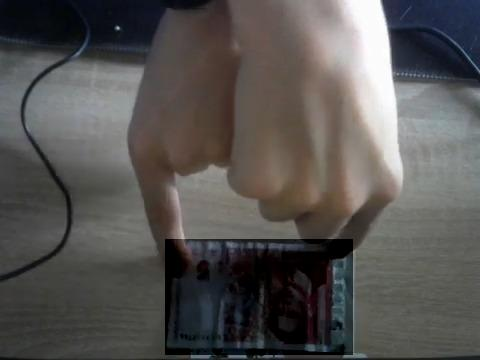5leva: (165, 239, 353, 355)
